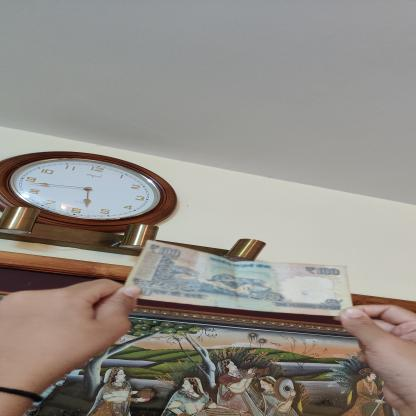Old100Back: (124, 240, 353, 316)
